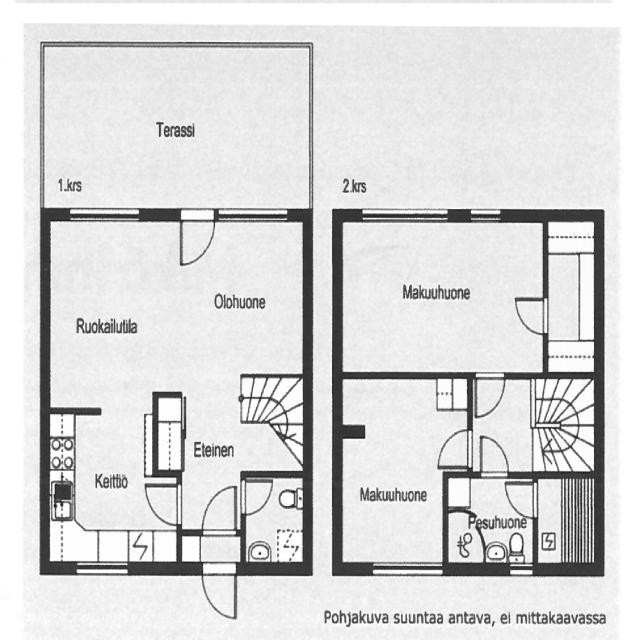door: (42, 42, 311, 210), (174, 205, 218, 272), (142, 475, 188, 531), (198, 564, 240, 624), (509, 292, 554, 342), (200, 480, 240, 536), (469, 369, 508, 423), (502, 474, 544, 524), (434, 424, 476, 472), (475, 429, 513, 480), (239, 476, 273, 518)
window: (358, 202, 453, 230), (213, 202, 297, 228), (63, 203, 143, 228), (366, 558, 445, 582), (72, 560, 131, 581), (464, 205, 506, 228), (503, 560, 538, 582)
zone: (48, 218, 310, 408), (336, 217, 544, 376), (335, 375, 446, 568), (45, 407, 154, 568), (544, 218, 600, 376), (444, 474, 535, 566), (534, 475, 602, 570), (243, 475, 307, 569), (166, 206, 225, 285)
